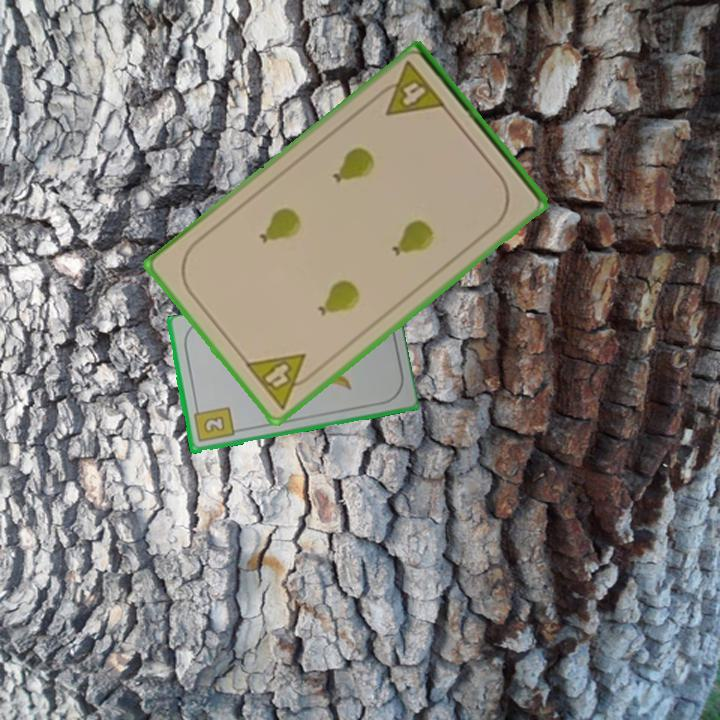2b: (190, 403, 236, 445)
4p: (241, 350, 321, 413), (371, 58, 449, 120)
